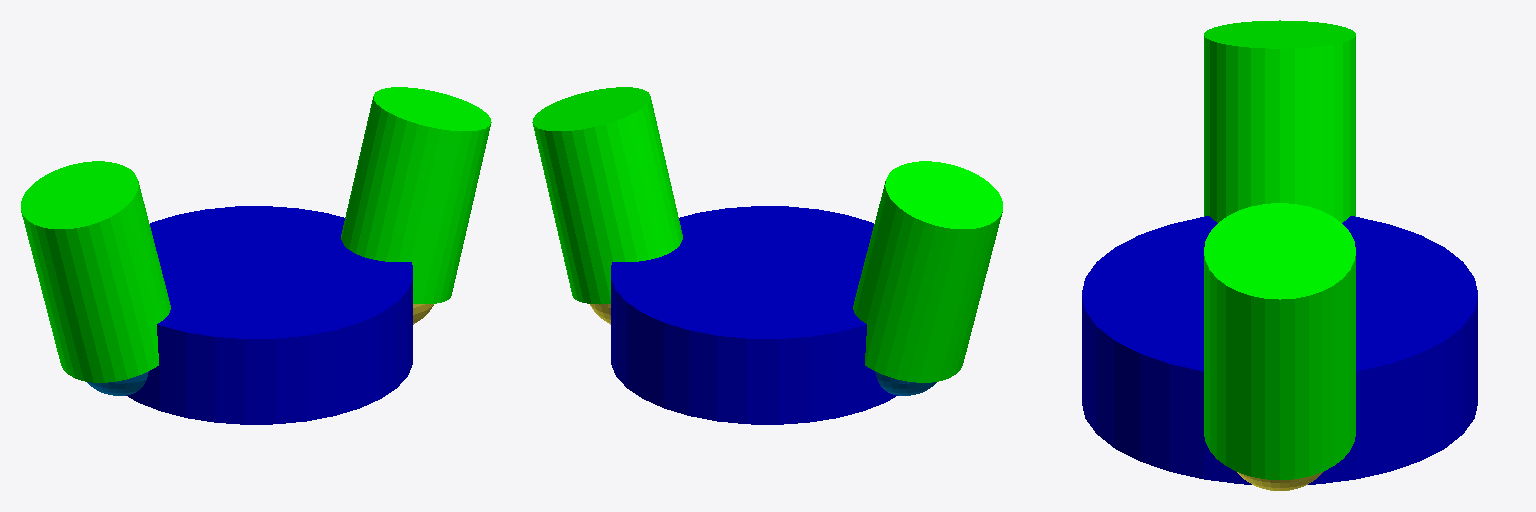
robot.urdf — gripper_2f_1j:
<?xml version='1.0' encoding='UTF-8'?>
<robot name="gripper_2f_1j">
  <link name="palm">
    <inertial>
      <origin xyz="0.0 0.0 0.0" rpy="0.0 -0.0 0.0"/>
      <mass value="1.0"/>
      <inertia ixx="1.0" ixy="0.0" ixz="0.0" iyy="1.0" iyz="0.0" izz="1.0"/>
    </inertial>
    <visual>
      <geometry>
        <cylinder radius="0.05" length="0.03"/>
      </geometry>
      <material name="blue"/>
      <origin xyz="0.0 0.0 0.0" rpy="0.0 -0.0 0.0"/>
    </visual>
    <collision>
      <geometry>
        <cylinder radius="0.05" length="0.03"/>
      </geometry>
      <origin xyz="0.0 0.0 0.0" rpy="0.0 0.0 0.0"/>
    </collision>
  </link>
  <link name="f11">
    <inertial>
      <origin xyz="0.0 0.0 0.0" rpy="0.0 -0.0 0.0"/>
      <mass value="1.0"/>
      <inertia ixx="1.0" ixy="0.0" ixz="0.0" iyy="1.0" iyz="0.0" izz="1.0"/>
    </inertial>
    <visual>
      <geometry>
        <cylinder radius="0.01920251154799855" length="0.05887117132597672"/>
      </geometry>
      <material name="green"/>
      <origin xyz="0.0 0.0 0.02943558566298836" rpy="0.0 -0.0 0.0"/>
    </visual>
    <collision>
      <geometry>
        <cylinder radius="0.01920251154799855" length="0.05887117132597672"/>
      </geometry>
      <origin xyz="0.0 0.0 0.05" rpy="0.0 0.0 0.0"/>
    </collision>
  </link>
  <link name="f21">
    <inertial>
      <origin xyz="0.0 0.0 0.0" rpy="0.0 -0.0 0.0"/>
      <mass value="1.0"/>
      <inertia ixx="1.0" ixy="0.0" ixz="0.0" iyy="1.0" iyz="0.0" izz="1.0"/>
    </inertial>
    <visual>
      <geometry>
        <cylinder radius="0.01920251154799855" length="0.05887117132597672"/>
      </geometry>
      <material name="green"/>
      <origin xyz="0.0 0.0 0.02943558566298836" rpy="0.0 -0.0 0.0"/>
    </visual>
    <collision>
      <geometry>
        <cylinder radius="0.01920251154799855" length="0.05887117132597672"/>
      </geometry>
      <origin xyz="0.0 0.0 0.05" rpy="0.0 0.0 0.0"/>
    </collision>
  </link>
  <link name="f11_base">
    <inertial>
      <origin xyz="0.0 0.0 0.0" rpy="0.0 -0.0 0.0"/>
      <mass value="1.0"/>
      <inertia ixx="1.0" ixy="0.0" ixz="0.0" iyy="1.0" iyz="0.0" izz="1.0"/>
    </inertial>
    <visual>
      <geometry>
        <sphere radius="0.015"/>
      </geometry>
      <origin xyz="0.0 0.0 0.0" rpy="0.0 -0.0 0.0"/>
    </visual>
  </link>
  <link name="f21_base">
    <inertial>
      <origin xyz="0.0 0.0 0.0" rpy="0.0 -0.0 0.0"/>
      <mass value="1.0"/>
      <inertia ixx="1.0" ixy="0.0" ixz="0.0" iyy="1.0" iyz="0.0" izz="1.0"/>
    </inertial>
    <visual>
      <geometry>
        <sphere radius="0.015"/>
      </geometry>
      <origin xyz="0.0 0.0 0.0" rpy="0.0 -0.0 0.0"/>
    </visual>
  </link>
  <joint name="f11_joint" type="revolute">
    <dynamics damping="100.0" friction="1.0"/>
    <limit effort="30.0" velocity="2.0" lower="-0.6" upper="0.25"/>
    <parent link="f11_base"/>
    <child link="f11"/>
    <axis xyz="0. 1. 0."/>
    <origin xyz="0.0 0.0 0.0" rpy="0.0 0.25 0.0"/>
  </joint>
  <joint name="f21_joint" type="revolute">
    <dynamics damping="100.0" friction="1.0"/>
    <limit effort="30.0" velocity="2.0" lower="-0.6" upper="0.25"/>
    <parent link="f21_base"/>
    <child link="f21"/>
    <axis xyz=" 0. -1.  0."/>
    <origin xyz="0.0 0.0 0.0" rpy="0.0 -0.25 0.0"/>
  </joint>
  <joint name="f11_base_joint" type="fixed">
    <parent link="palm"/>
    <child link="f11_base"/>
    <axis xyz="1. 0. 0."/>
    <origin xyz="0.05 0.0 0.0" rpy="0.0 0.0 0.0"/>
  </joint>
  <joint name="f21_base_joint" type="fixed">
    <parent link="palm"/>
    <child link="f21_base"/>
    <axis xyz="1. 0. 0."/>
    <origin xyz="-0.05 -0.0 0.0" rpy="0.0 0.0 0.0"/>
  </joint>
  <material name="blue">
    <color rgba="0.  0.  0.8 1. "/>
  </material>
  <material name="green">
    <color rgba="0. 1. 0. 1."/>
  </material>
</robot>

--- What the picture shows (computed from the rendered views, not written in the file) ---
3 views of the same robot in one strip: view 1: azimuth 30°, elevation 25°; view 2: azimuth 150°, elevation 25°; view 3: azimuth 270°, elevation 25° (orthographic).
Model gripper_2f_1j with 5 links and 4 joints (2 revolute, 2 fixed), rooted at palm, posed all joints at 0.
Links seen in each view (by area): view 1: palm, f21, f11, f21_base; view 2: palm, f21, f11, f21_base; view 3: palm, f11, f21, f11_base.
Link boxes in pixels (x1=…): palm: x1=126, y1=206, x2=412, y2=424; f21: x1=21, y1=161, x2=170, y2=382; f11: x1=341, y1=87, x2=491, y2=303; f21_base: x1=87, y1=371, x2=148, y2=395; palm: x1=611, y1=206, x2=897, y2=424; f21: x1=853, y1=161, x2=1002, y2=382; f11: x1=532, y1=87, x2=682, y2=303; f21_base: x1=875, y1=371, x2=936, y2=395; palm: x1=1082, y1=216, x2=1477, y2=484; f11: x1=1204, y1=203, x2=1355, y2=479; f21: x1=1204, y1=20, x2=1355, y2=222; f11_base: x1=1237, y1=472, x2=1322, y2=490.
Bounding box of the posed robot: 0.1663 × 0.1 × 0.0768 m (x, y, z).
Geometry: primitives only (box / cylinder / sphere), no mesh files.